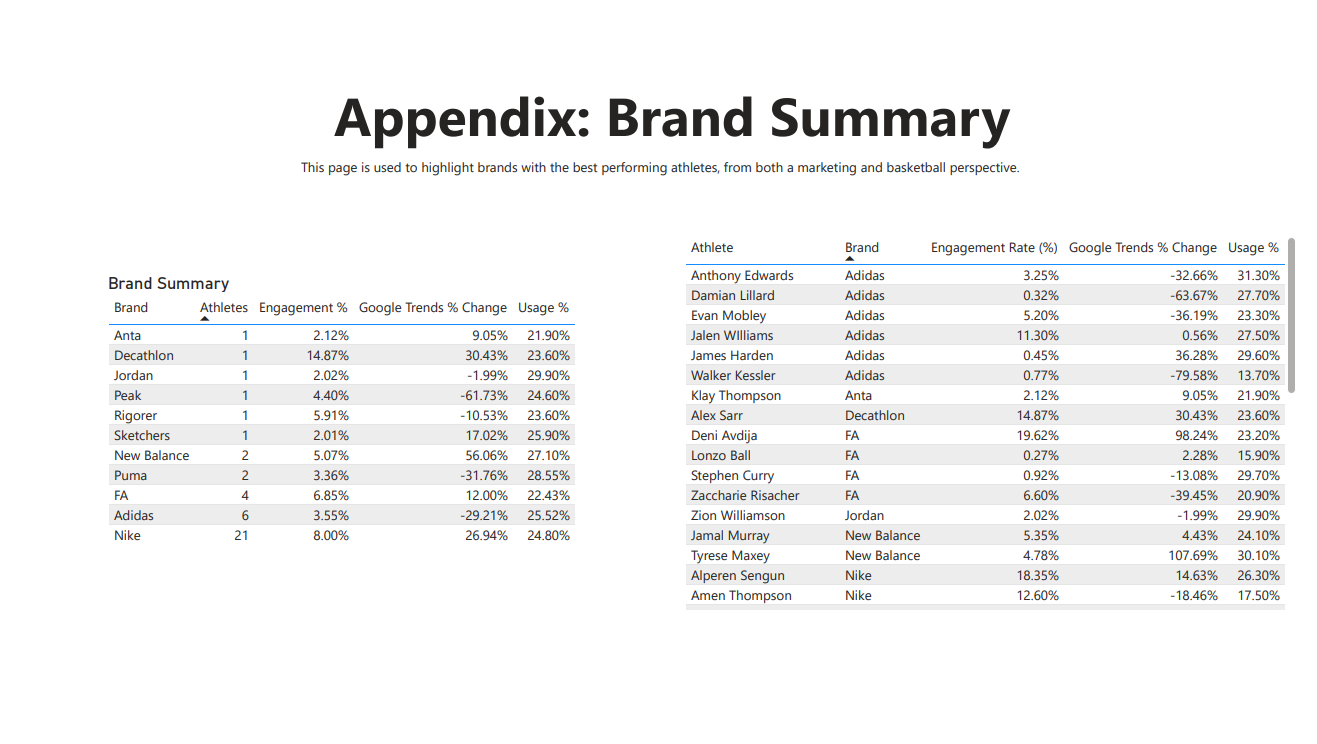

What the dashboard file says about the page in this screenshot:
{"tool":"powerbi","page":{"name":"Appendix: Brand Summary","canvas":[1280,720],"ordinal":5},"visuals":[{"type":"textbox","box":[10.7,0,570,136.2],"z":0},{"type":"tableEx","title":"Brand Summary","fields":{"Values":["brand_summary.brand_signed_with","brand_summary.athletes","brand_summary.avg_engagement","brand_summary.avg_trends_change","brand_summary.avg_usage"]},"box":[81.7,255.8,499,300.5],"z":1000},{"type":"tableEx","fields":{"Values":["final_table_by_endorsement_score.athlete","final_table_by_endorsement_score.brand_signed_with","Avg(final_table_by_endorsement_score.engagement_rate_pct)","Avg(final_table_by_endorsement_score.google_trends_pct_change)","Avg(final_table_by_endorsement_score.usage_rate_pct)"]},"box":[659.5,215,620.5,383.2],"z":2000},{"type":"textbox","box":[308.3,56.4,702.2,88.5],"z":3000},{"type":"textbox","box":[275.3,136.2,767.4,56.4],"z":3001}]}

Visuals, with their boxes in screenshot pixels (x1, y1, x2, y2), scaled from the page's 1280x720 canvas onto the 1317x744 screenshot:
textbox: <region>11, 0, 597, 141</region>
"Brand Summary" tableEx: <region>84, 264, 597, 575</region>
tableEx - final_table_by_endorsement_score.athlete x final_table_by_endorsement_score.brand_signed_with: <region>679, 222, 1316, 618</region>
textbox: <region>317, 58, 1040, 150</region>
textbox: <region>283, 141, 1073, 199</region>
